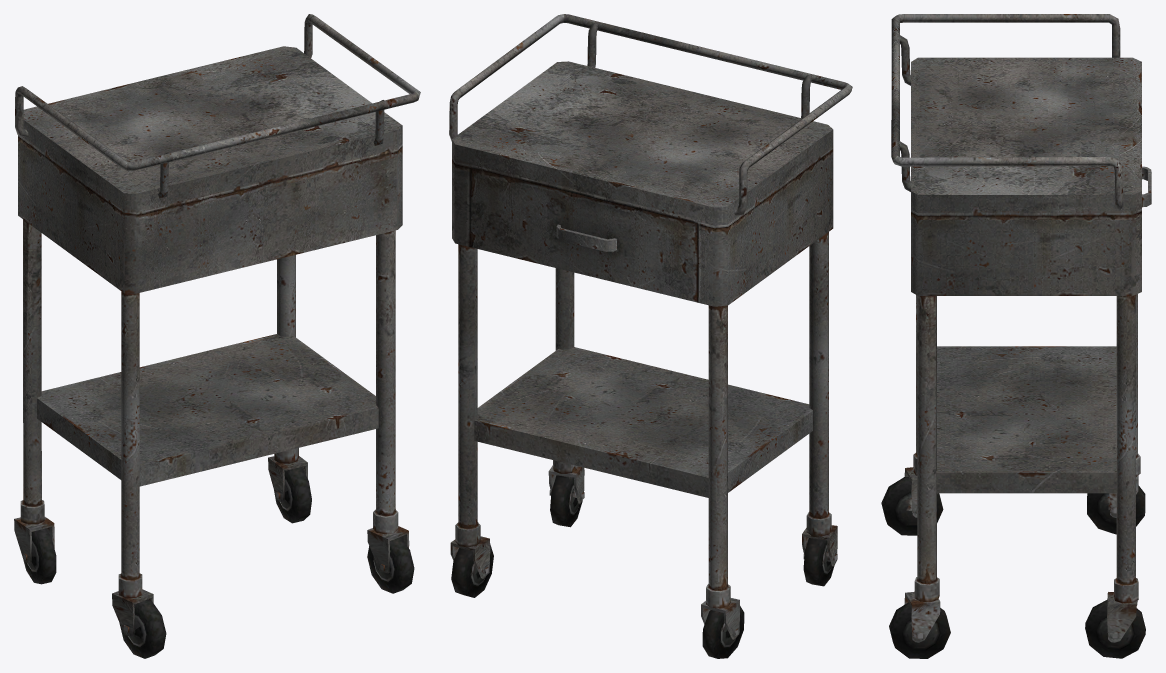
Rendered from Lab Cart.obj.
3 views of the same model, side by side, from view 1: azimuth 30°, elevation 25°; view 2: azimuth 150°, elevation 25°; view 3: azimuth 270°, elevation 25° (orthographic).
Visible parts, largest first — view 1: Lab_Cart; view 2: Lab_Cart; view 3: Lab_Cart.
Part boxes in pixels (left/top/right/bottom): Lab_Cart: left=14, top=14, right=420, bottom=658; Lab_Cart: left=449, top=14, right=852, bottom=658; Lab_Cart: left=881, top=14, right=1151, bottom=658.
Size of the model in its own units: 49.72 by 79.98 by 38.52.
1 material, 1 textured.
